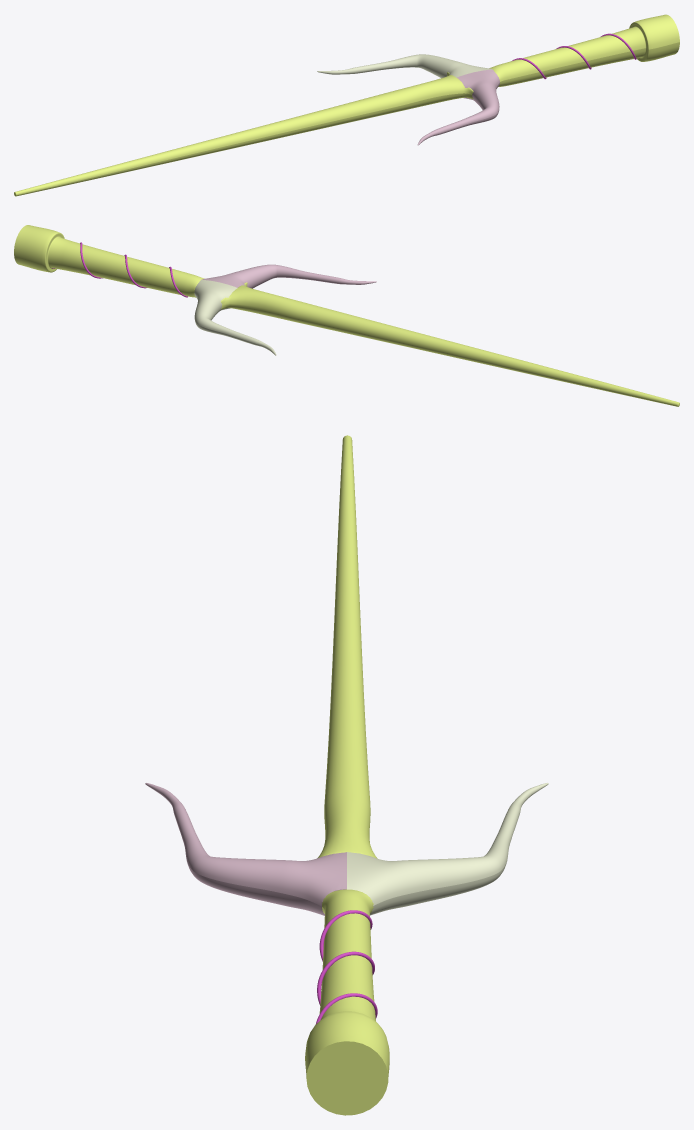
3 renders of one model, top to bottom at view 1: azimuth 30°, elevation 25°; view 2: azimuth 150°, elevation 25°; view 3: azimuth 270°, elevation 25°, orthographic. The views are drawn at different scales.
Parts seen in each view (by area): view 1: split_parent_2, split_parent_3, split_parent_1, split_parent_0; view 2: split_parent_2, split_parent_1, split_parent_3, split_parent_0; view 3: split_parent_2, split_parent_3, split_parent_1, split_parent_0.
Part boxes in pixels (x1,y1,x2,y2): split_parent_2: [14, 14, 679, 196]; split_parent_3: [417, 69, 499, 145]; split_parent_1: [317, 54, 492, 78]; split_parent_0: [512, 33, 636, 79]; split_parent_2: [14, 225, 679, 406]; split_parent_1: [194, 280, 276, 355]; split_parent_3: [201, 264, 376, 288]; split_parent_0: [52, 242, 187, 297]; split_parent_2: [305, 435, 389, 1115]; split_parent_3: [145, 783, 346, 915]; split_parent_1: [347, 783, 548, 915]; split_parent_0: [315, 910, 377, 1024].
Size of the model in its own units: 1 by 0.0559 by 0.2666.
